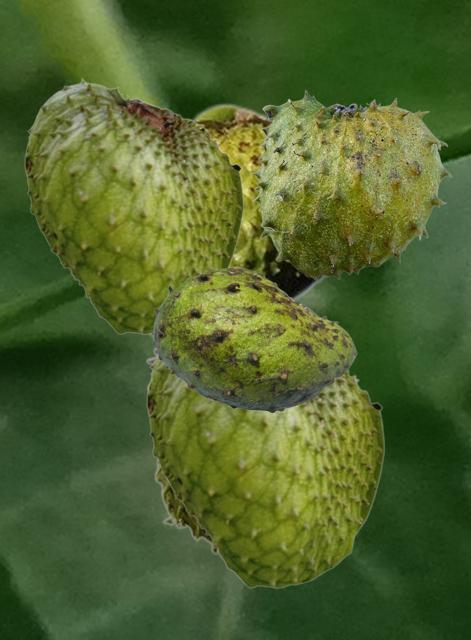guyabano: (24, 77, 243, 334), (146, 355, 384, 588), (145, 102, 328, 348), (251, 89, 451, 279), (151, 266, 356, 412), (146, 347, 220, 559)
